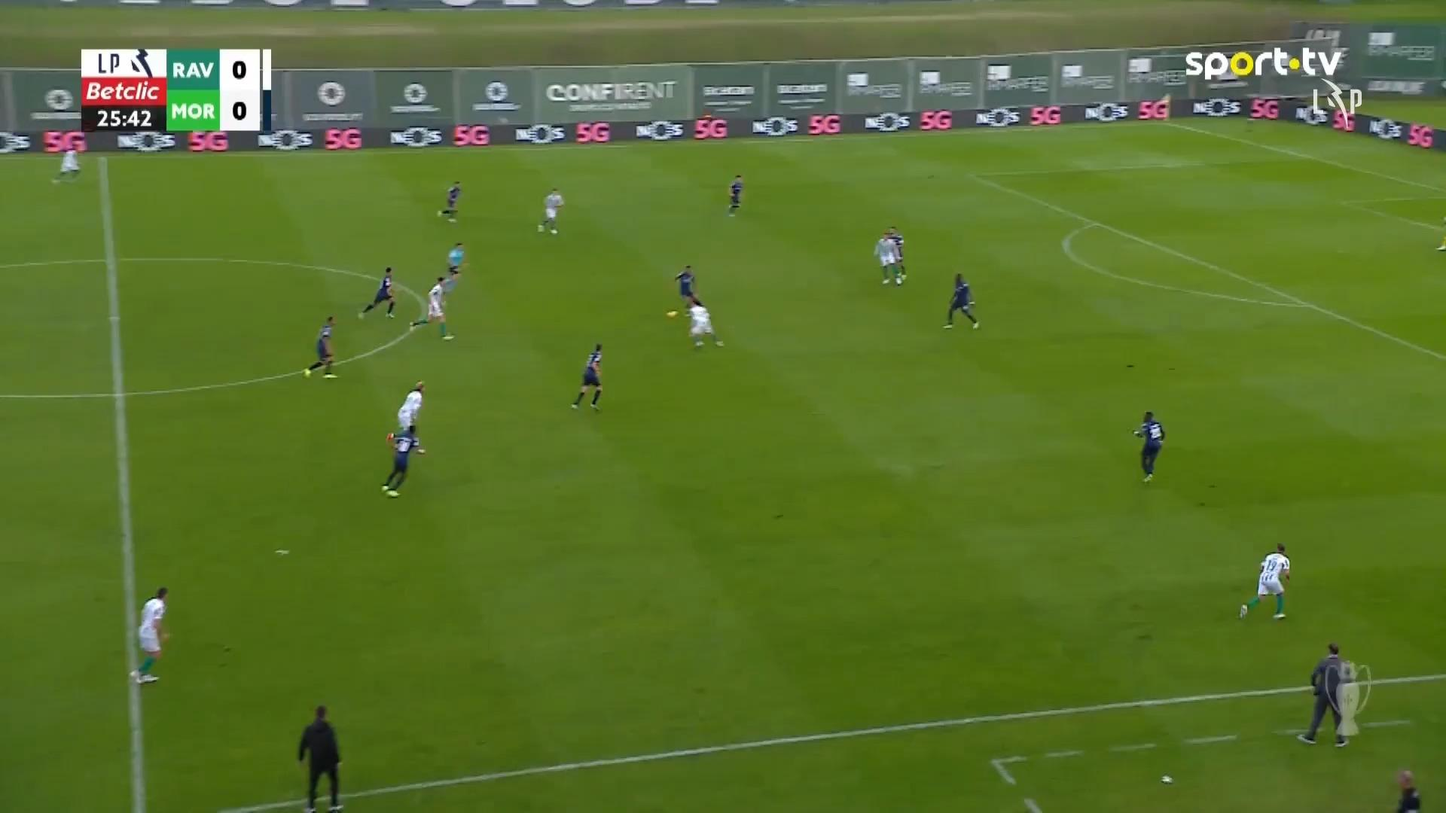ball: (666, 310, 676, 317)
player: (1237, 541, 1291, 619), (128, 586, 169, 683), (409, 271, 458, 340), (380, 425, 425, 497), (569, 343, 604, 411), (1132, 410, 1164, 483), (302, 315, 338, 378), (941, 272, 979, 329), (397, 379, 426, 452), (685, 297, 725, 349), (357, 266, 396, 319), (50, 129, 86, 183), (874, 227, 906, 285), (537, 187, 563, 234), (674, 263, 697, 307), (437, 180, 461, 222), (727, 173, 743, 215)
referee: (1296, 641, 1354, 746), (297, 704, 343, 811), (446, 241, 465, 275)
